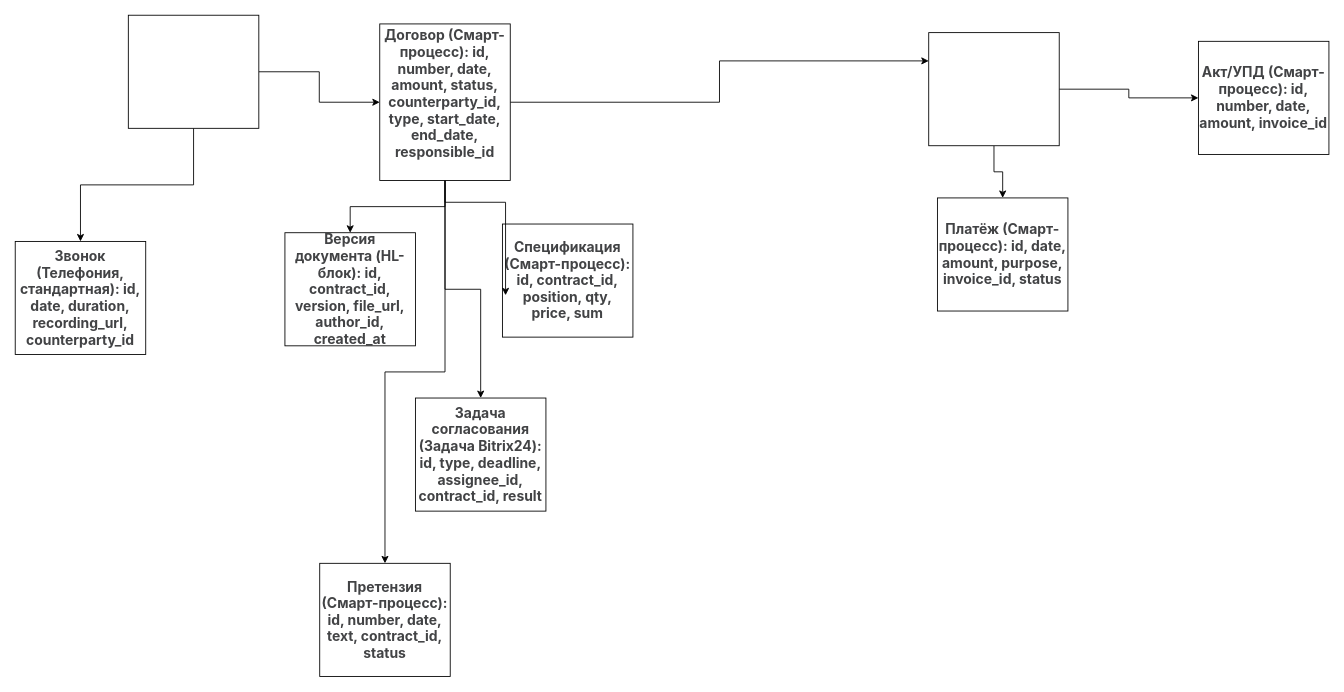
Some shapes in this 1344 by 692 pixel diagram are drawn without their labels. Here are the shapes that lost their labels. From the top down, the box of each, then its label:
(127, 14, 259, 128): Контрагент (Компания CRM): id, name, inn, kpp, status, responsible_id
(928, 32, 1059, 146): Счёт (Смарт-процесс): id, number, date, amount, status, contract_id
